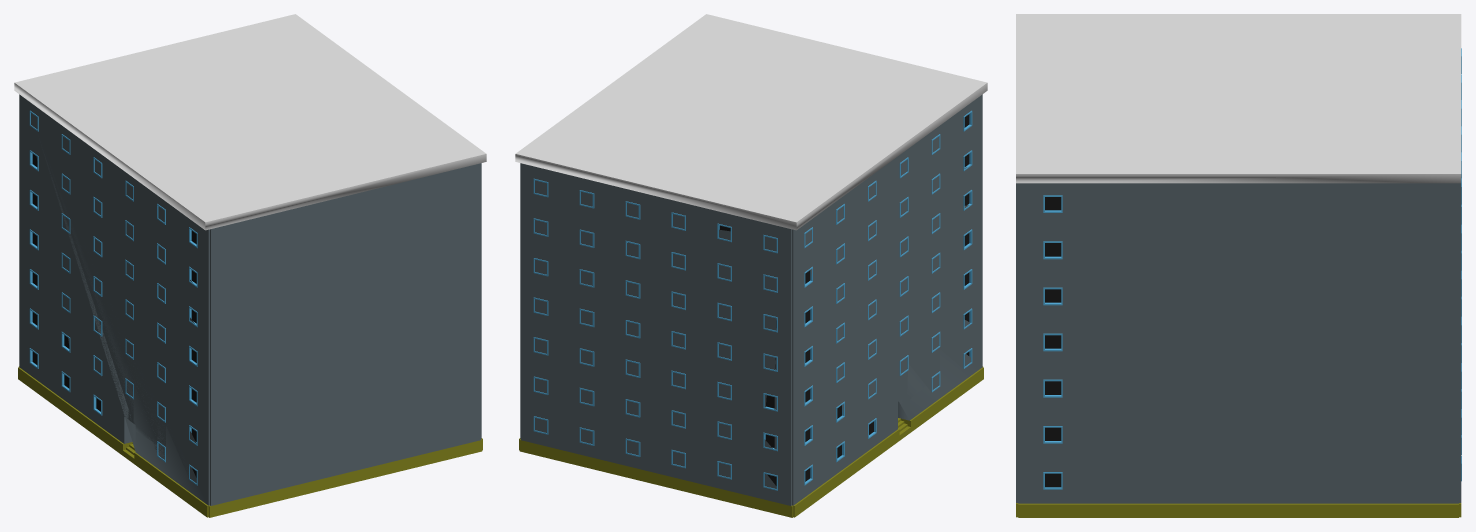
Rendered from BCL30_F07_02.fbx.
3 views of the same model, side by side, from view 1: azimuth 30°, elevation 25°; view 2: azimuth 150°, elevation 25°; view 3: azimuth 270°, elevation 25° (orthographic). The views are drawn at different scales.
Parts seen in each view (by area): view 1: BCL30_F07_02; view 2: BCL30_F07_02; view 3: BCL30_F07_02.
Part boxes in pixels (left/top/right/bottom): BCL30_F07_02: left=14, top=14, right=486, bottom=517; BCL30_F07_02: left=515, top=14, right=987, bottom=517; BCL30_F07_02: left=1016, top=14, right=1461, bottom=517.
Bounding box in the file's own units: 2550 × 2570 × 3005.
